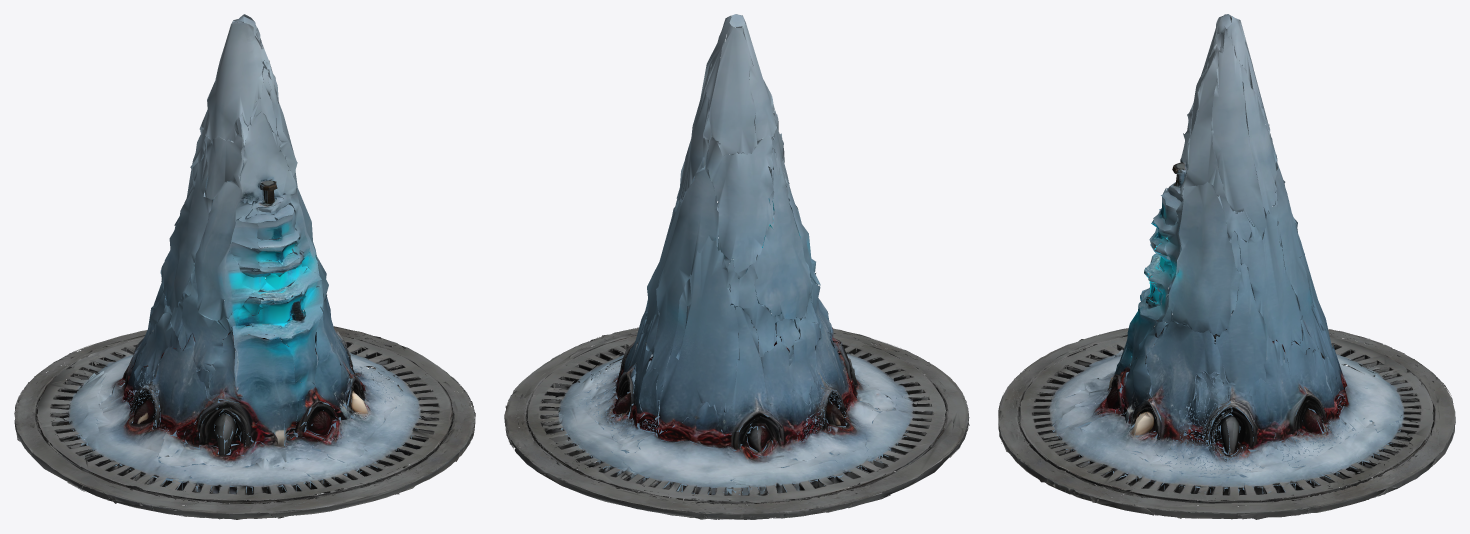
File: scatter_ice_stalagmite.glb
The picture shows the model from 3 angles, left to right: view 1: azimuth 30°, elevation 25°; view 2: azimuth 150°, elevation 25°; view 3: azimuth 270°, elevation 25°; orthographic projection.
Visible parts, largest first — view 1: node_0; view 2: node_0; view 3: node_0.
Boxes of the visible parts, bbox=[...] form: node_0: bbox=[14, 14, 475, 519]; node_0: bbox=[504, 14, 969, 519]; node_0: bbox=[998, 14, 1455, 519].
Bounding box in the file's own units: 0.8559 × 0.8426 × 0.8498.
Materials: 1 (1 with a texture image).
